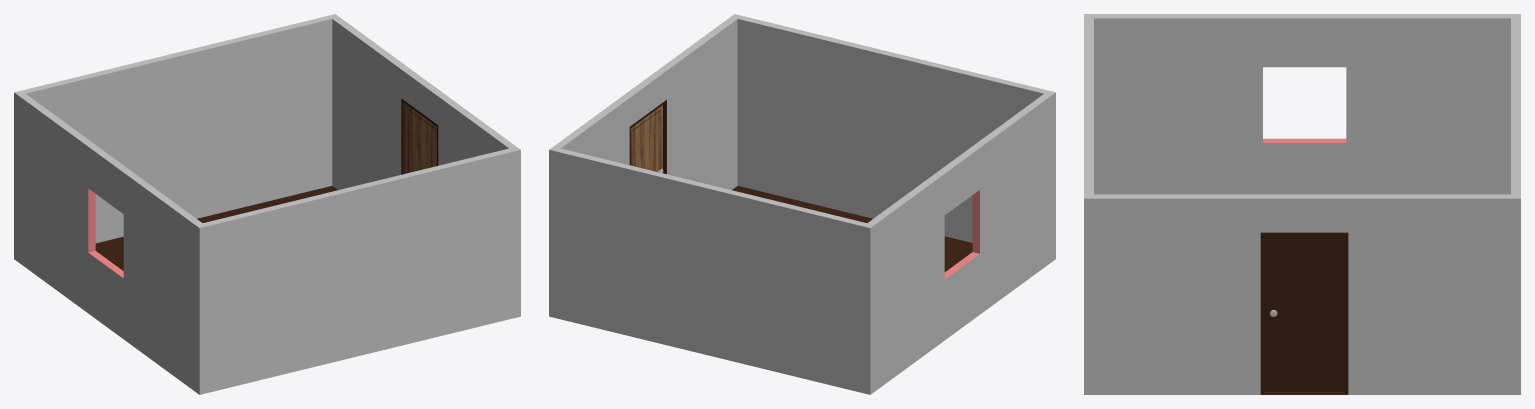
File: QuartoTextureMap.fbx
3 views of the same model, side by side, from view 1: azimuth 30°, elevation 25°; view 2: azimuth 150°, elevation 25°; view 3: azimuth 270°, elevation 25° (orthographic). The views are drawn at different scales.
Parts seen in each view (by area): view 1: Paredes, Porta, Piso, MolduraPorta; view 2: Paredes, Porta, Piso, MolduraPorta; view 3: Paredes, Porta, MolduraPorta.
Part boxes in pixels (x1=…): Paredes: x1=14, y1=14, x2=520, y2=394; Porta: x1=405, y1=104, x2=436, y2=173; Piso: x1=95, y1=186, x2=337, y2=270; MolduraPorta: x1=401, y1=98, x2=438, y2=174; Paredes: x1=549, y1=14, x2=1055, y2=394; Porta: x1=631, y1=105, x2=662, y2=171; Piso: x1=732, y1=186, x2=972, y2=271; MolduraPorta: x1=629, y1=100, x2=666, y2=174; Paredes: x1=1084, y1=14, x2=1520, y2=394; Porta: x1=1264, y1=235, x2=1345, y2=391; MolduraPorta: x1=1260, y1=232, x2=1348, y2=394.
Bounding box in the file's own units: 525 × 524 × 260.
